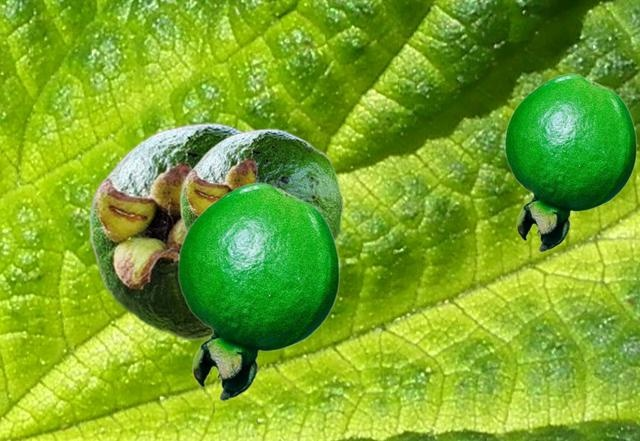guava: (177, 182, 339, 400), (88, 122, 245, 340), (504, 73, 636, 251), (179, 128, 343, 242)
